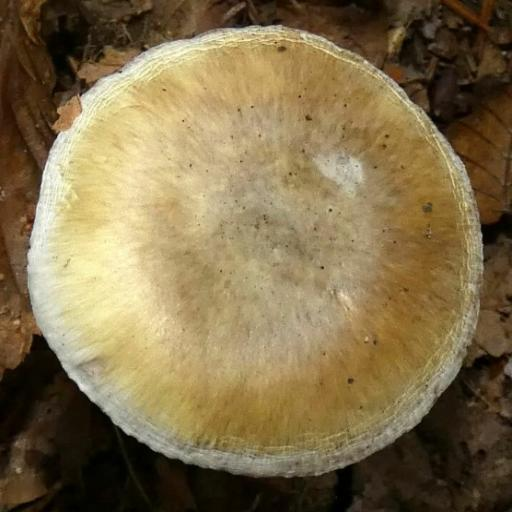mushroom: (0, 0, 508, 501)
